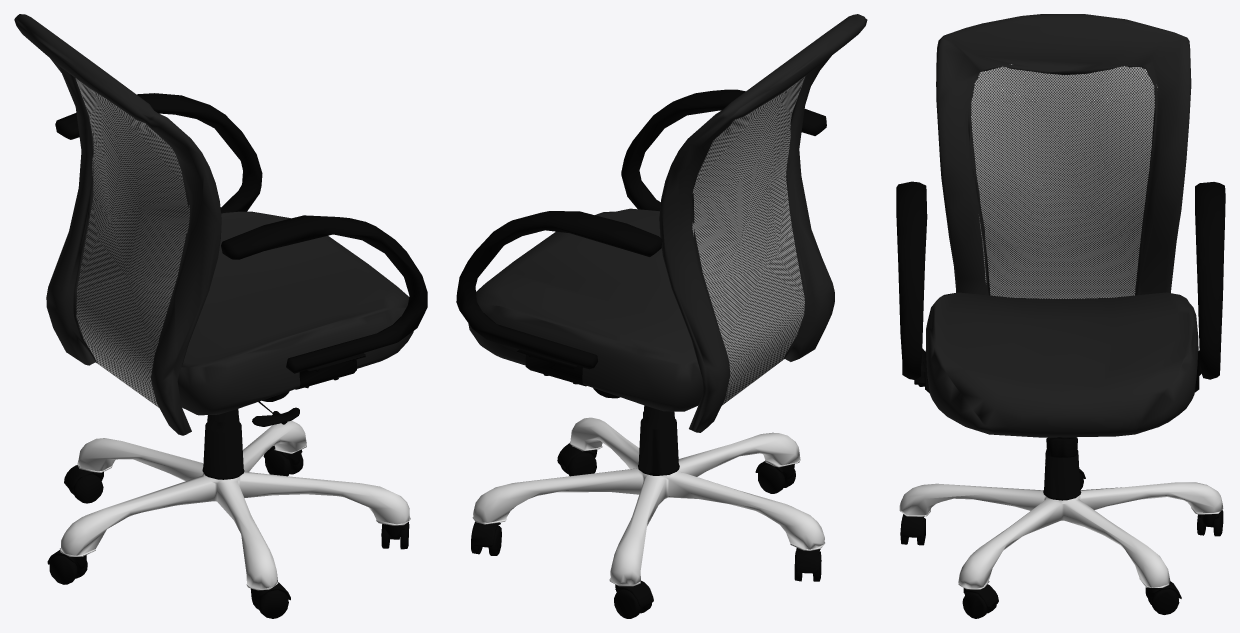
Rendered from office_chair.glb.
The picture shows the model from 3 angles, left to right: view 1: azimuth 30°, elevation 25°; view 2: azimuth 150°, elevation 25°; view 3: azimuth 270°, elevation 25°; orthographic projection. The views are drawn at different scales.
Parts seen in each view (by area): view 1: Box01_Lether_0, Box02_Chairback_0, Rectangle02_Chrome_0, Line04_Matteplastic_0, Cylinder01_Matteplastic_0, Rectangle11_BlackMetal_0; view 2: Box01_Lether_0, Box02_Chairback_0, Rectangle02_Chrome_0, Line04_Matteplastic_0, Cylinder01_Matteplastic_0, Rectangle11_BlackMetal_0; view 3: Box01_Lether_0, Box02_Chairback_0, Rectangle02_Chrome_0, Line04_Matteplastic_0, Cylinder01_Matteplastic_0.
Part boxes in pixels (x1,y1,x2,y2): Box01_Lether_0: [14, 14, 413, 435]; Box02_Chairback_0: [75, 78, 189, 407]; Rectangle02_Chrome_0: [60, 420, 410, 590]; Line04_Matteplastic_0: [55, 93, 427, 373]; Cylinder01_Matteplastic_0: [47, 391, 409, 618]; Rectangle11_BlackMetal_0: [258, 353, 365, 412]; Box01_Lether_0: [468, 14, 867, 432]; Box02_Chairback_0: [692, 76, 804, 405]; Rectangle02_Chrome_0: [472, 417, 824, 586]; Line04_Matteplastic_0: [456, 89, 826, 369]; Cylinder01_Matteplastic_0: [471, 388, 821, 618]; Rectangle11_BlackMetal_0: [517, 349, 586, 386]; Box01_Lether_0: [925, 14, 1198, 437]; Box02_Chairback_0: [971, 64, 1157, 298]; Rectangle02_Chrome_0: [899, 449, 1223, 589]; Line04_Matteplastic_0: [896, 181, 1225, 379]; Cylinder01_Matteplastic_0: [900, 372, 1223, 618].
Bounding box in the file's own units: 65.24 × 102 × 63.45.
5 materials, 1 textured.
